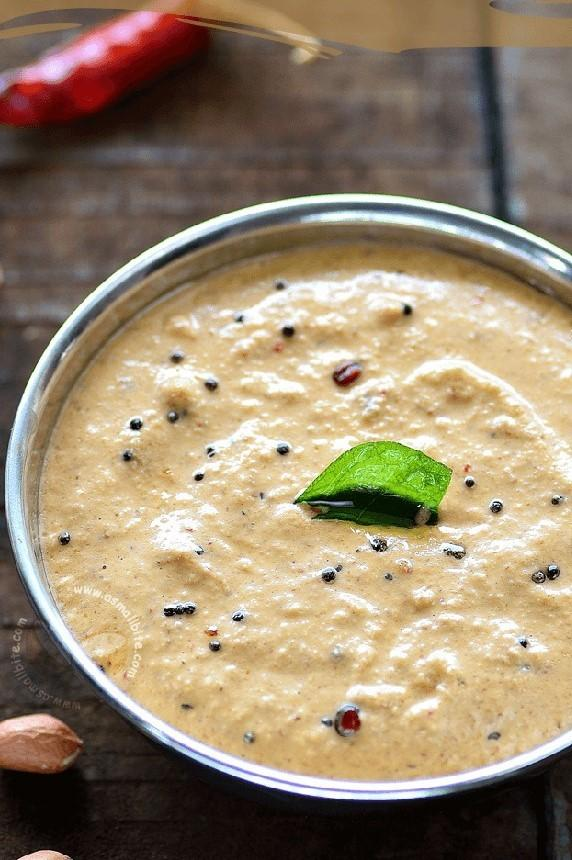CoconutChutney: (37, 242, 572, 773)
